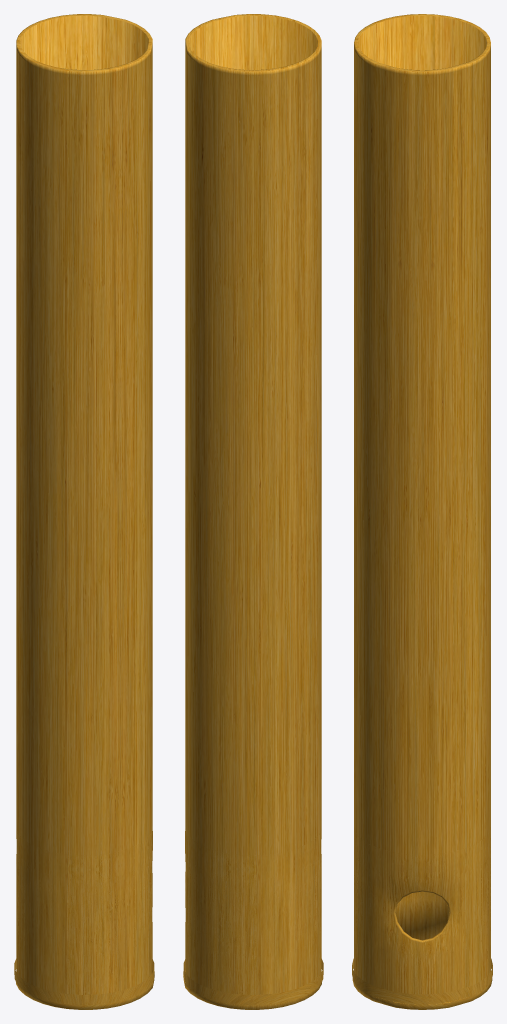
File: seruling_bambu_pbr.glb
3 renders of one model, left to right at view 1: azimuth 30°, elevation 25°; view 2: azimuth 150°, elevation 25°; view 3: azimuth 270°, elevation 25°, orthographic.
Visible parts, largest first — view 1: Cylinder.003, Cylinder.004, Cylinder.002; view 2: Cylinder.003, Cylinder.004, Cylinder.002; view 3: Cylinder.003, Cylinder.004, Cylinder.002.
Boxes of the visible parts, box(x1,y1,x2,y2) form: Cylinder.003: box(16, 14, 152, 994); Cylinder.004: box(14, 959, 154, 1005); Cylinder.002: box(16, 970, 154, 1009); Cylinder.003: box(185, 14, 321, 994); Cylinder.004: box(183, 959, 323, 1005); Cylinder.002: box(183, 970, 321, 1009); Cylinder.003: box(354, 14, 490, 994); Cylinder.004: box(352, 958, 492, 1004); Cylinder.002: box(352, 970, 492, 1009).
Bounding box in the file's own units: 0.6569 × 4.82 × 0.6559.
Materials: 2 (2 with a texture image).
